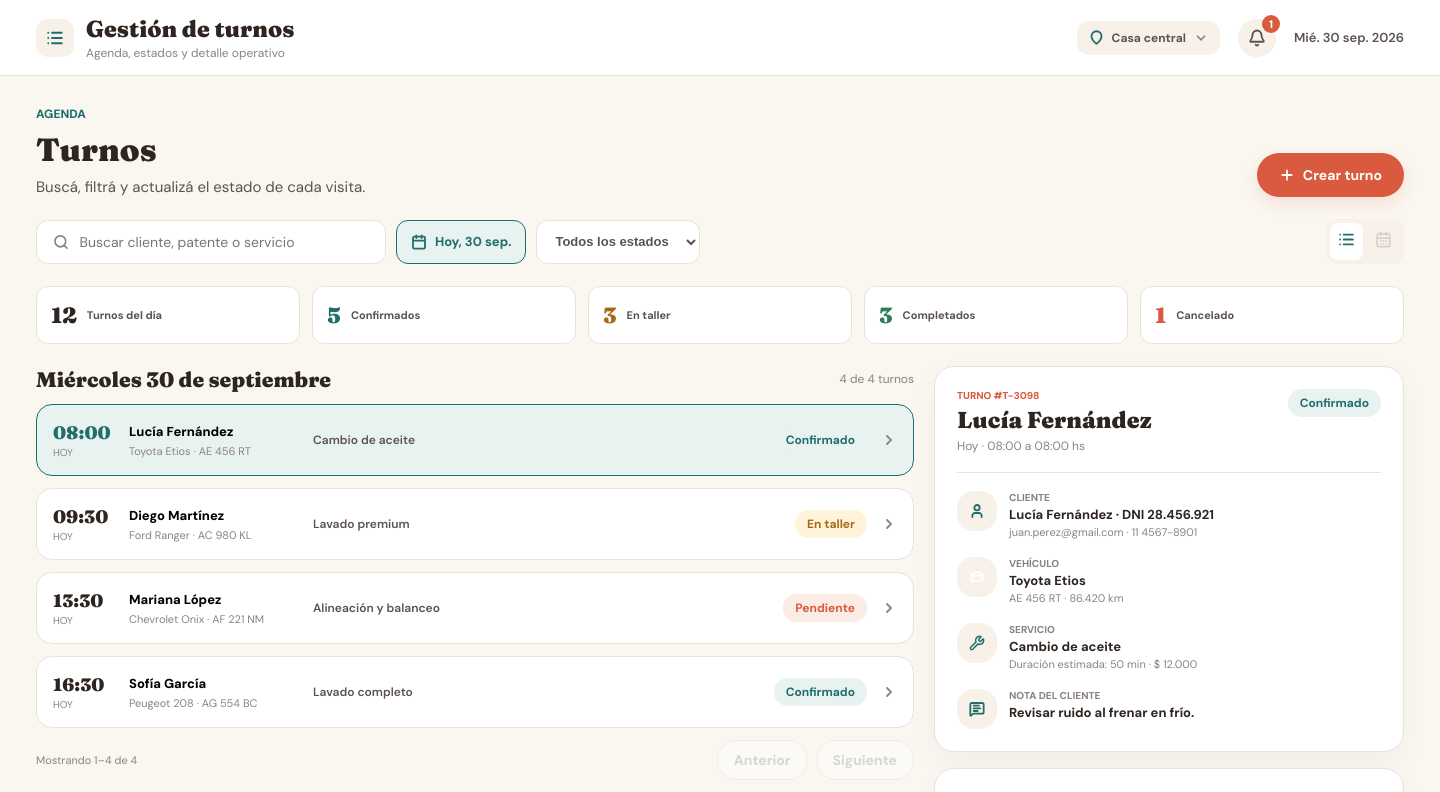
Scenario: Reservar turno › Verifica el panel de notificaciones del admin: badge, despliegue y confirmar turno
Click the button named "notificaciones".
click(1257, 38)  # box left=1238, top=18, right=1276, bottom=56
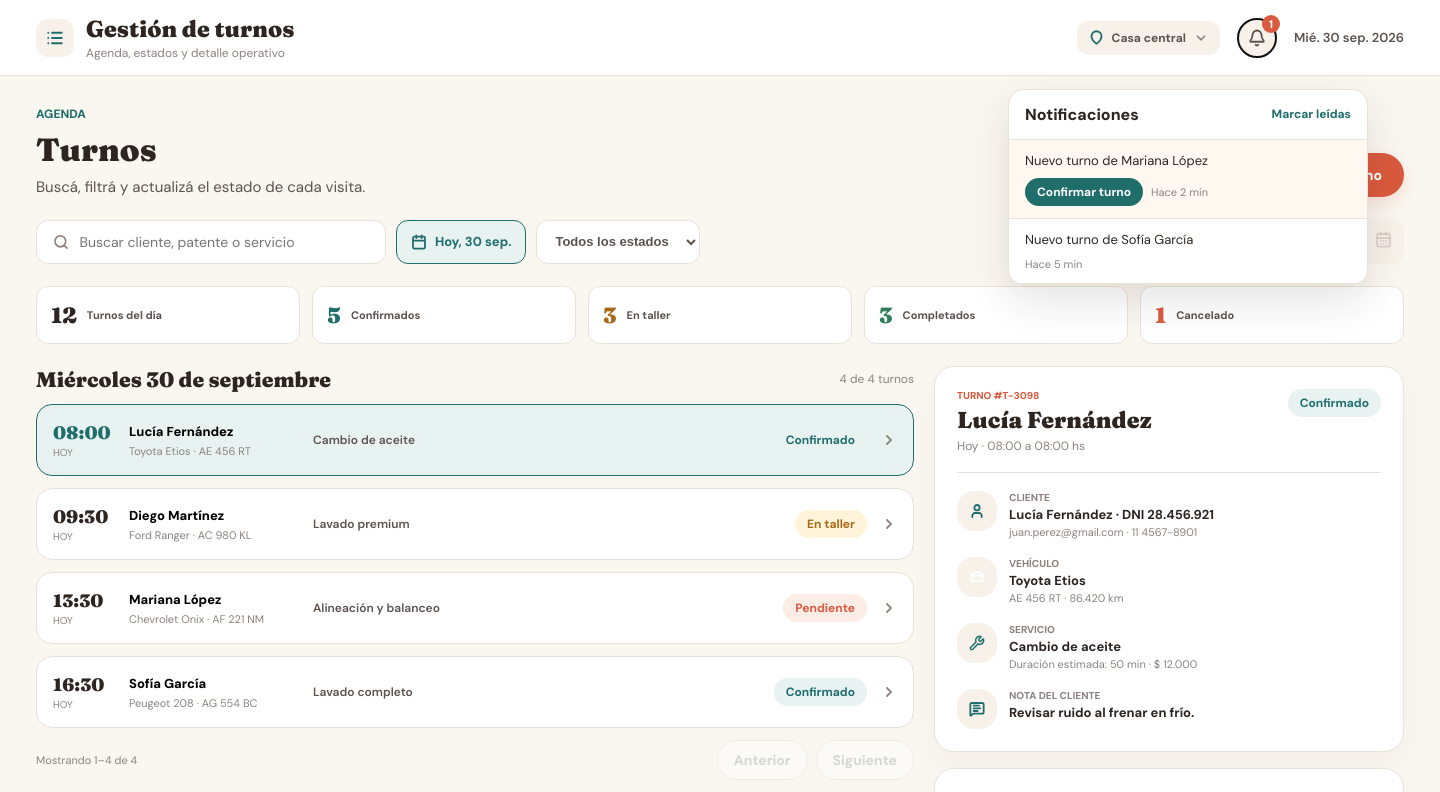
Check: the text "Nuevo turno de Mariana López" is shown, box left=1025, top=152, right=1208, bottom=168
Click the button "Confirmar turno".
click(1084, 192)  # box left=1025, top=178, right=1143, bottom=206
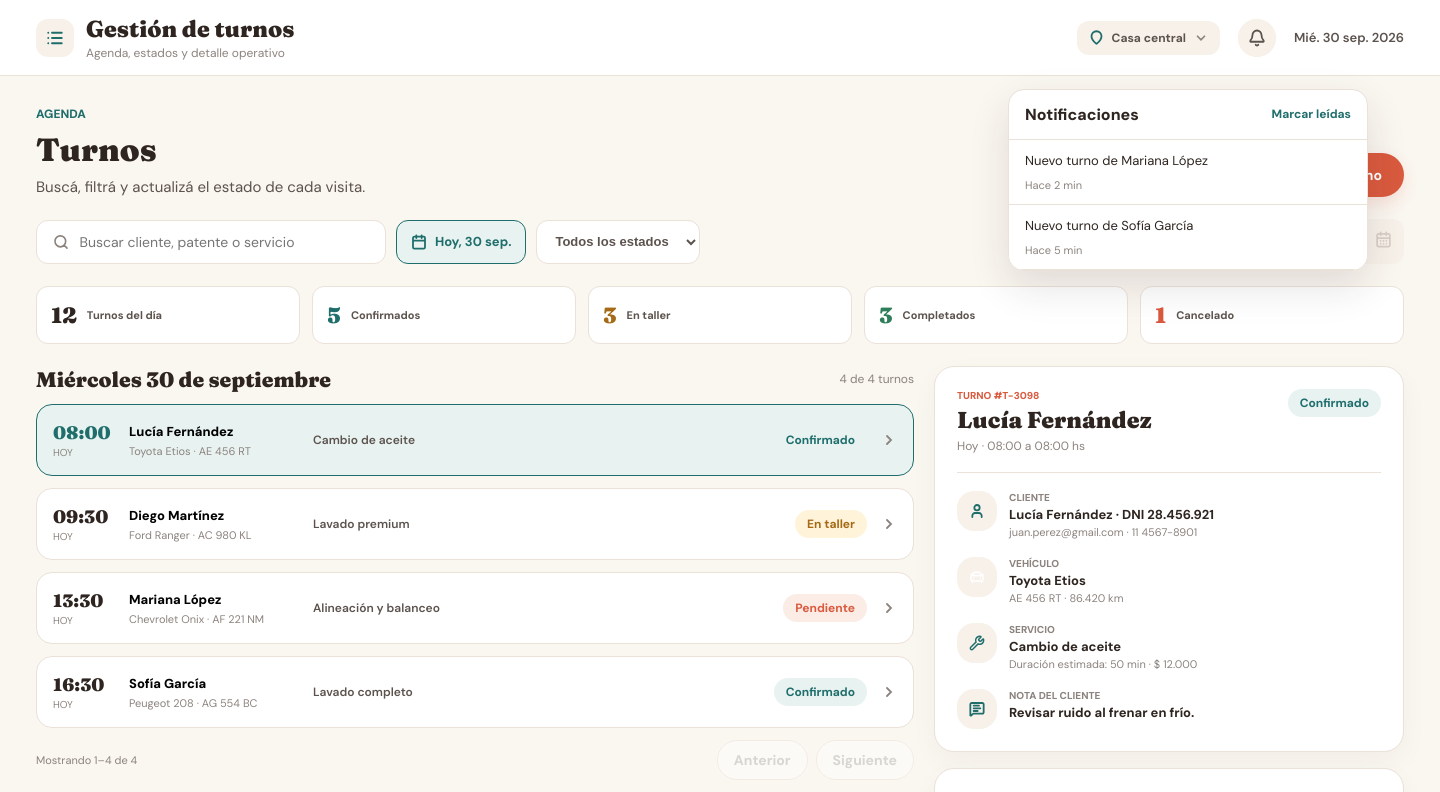
Check: the text "Nuevo turno de Sofía García" is shown, box left=1025, top=217, right=1193, bottom=234
Check: the button "Confirmar turno" is gone
